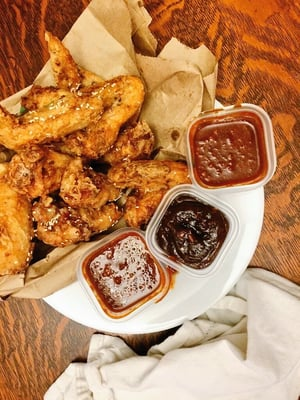sushi: (78, 229, 173, 321), (145, 185, 240, 276), (185, 103, 277, 191)
